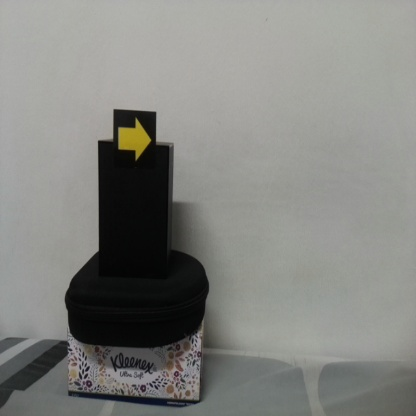id_3: (113, 110, 157, 169)
